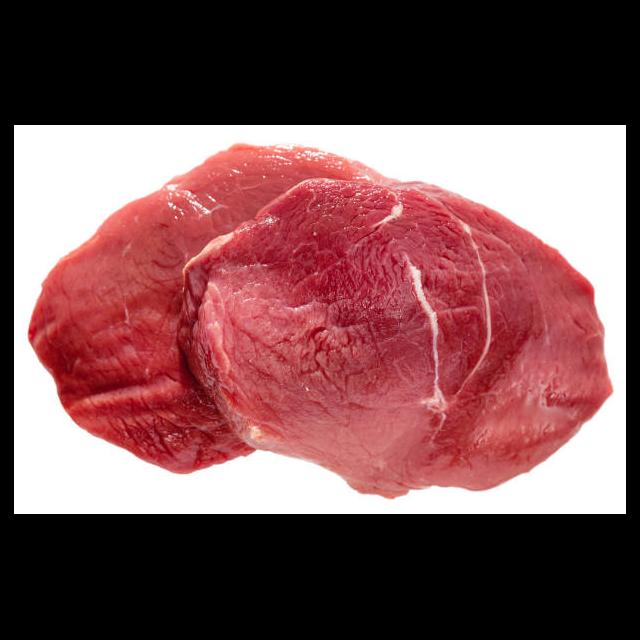beef: (27, 142, 612, 500)
